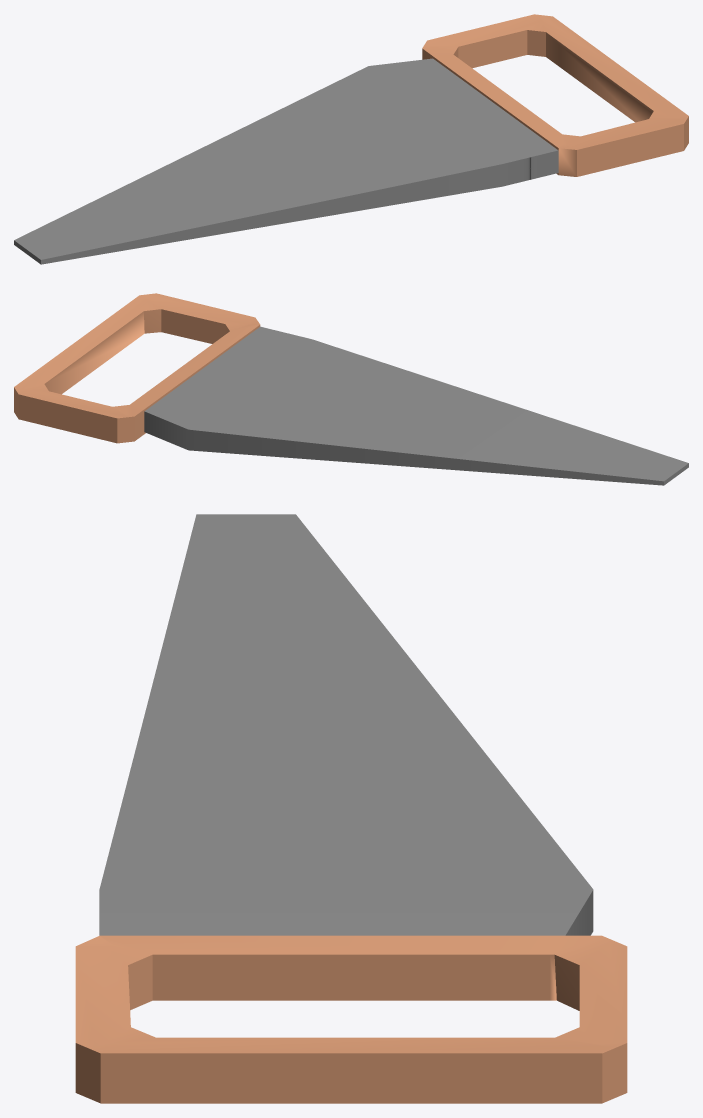
Rendered from SM_Tool_06.fbx.
3 renders of one model, top to bottom at view 1: azimuth 30°, elevation 25°; view 2: azimuth 150°, elevation 25°; view 3: azimuth 270°, elevation 25°, orthographic. The views are drawn at different scales.
Parts seen in each view (by area): view 1: SM_Tool_02; view 2: SM_Tool_02; view 3: SM_Tool_02.
Part boxes in pixels (x1=…): SM_Tool_02: x1=14, y1=14, x2=688, y2=264; SM_Tool_02: x1=14, y1=293, x2=688, y2=485; SM_Tool_02: x1=75, y1=514, x2=627, y2=1103.
Bounding box in the file's own units: 0.6 × 0.25 × 0.025.
